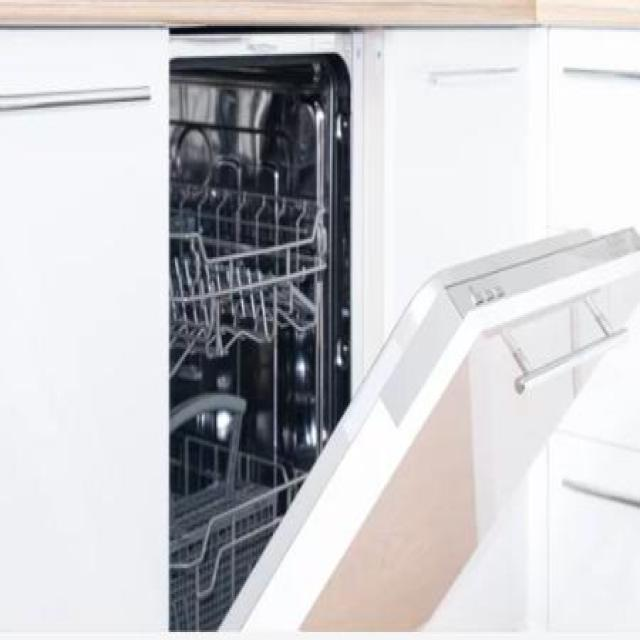dishwasher: (167, 28, 638, 638)
